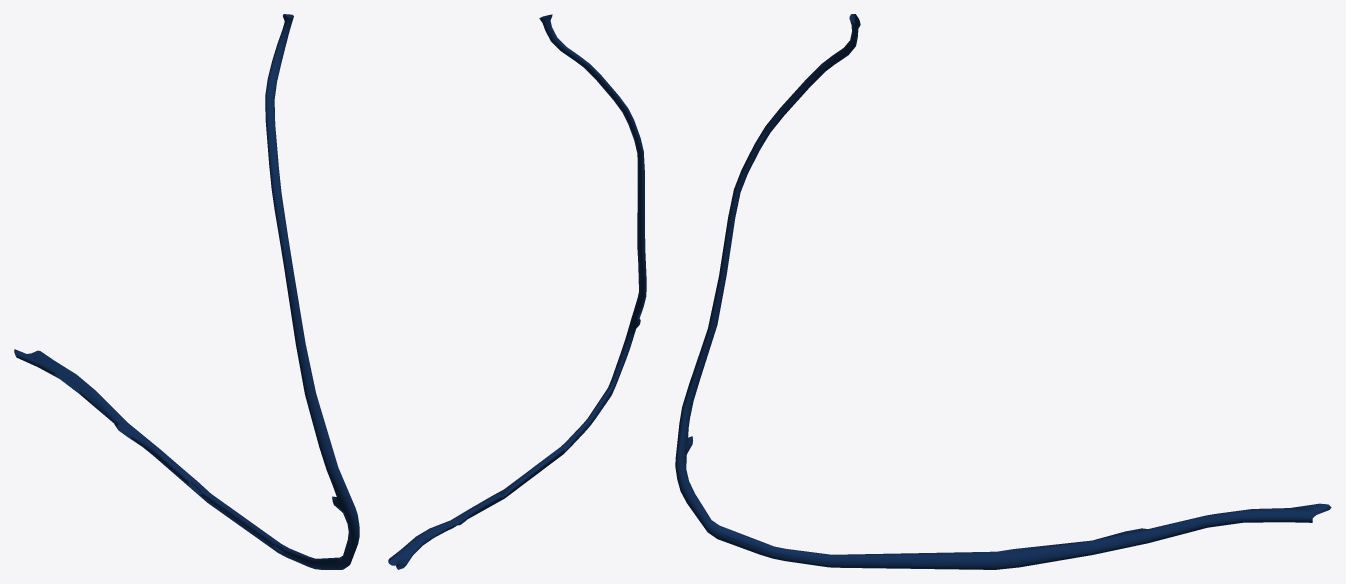
The model's file is R vena thoracica interna.fbx.
The picture shows the model from 3 angles, left to right: view 1: azimuth 30°, elevation 25°; view 2: azimuth 150°, elevation 25°; view 3: azimuth 270°, elevation 25°; orthographic projection. The views are drawn at different scales.
Parts seen in each view (by area): view 1: R vena thoracica interna, R vena thoracica interna low; view 2: R vena thoracica interna, R vena thoracica interna low; view 3: R vena thoracica interna, R vena thoracica interna low.
Boxes of the visible parts, box(x1,y1,x2,y2) form: R vena thoracica interna: box(14, 14, 359, 569); R vena thoracica interna low: box(16, 14, 358, 568); R vena thoracica interna: box(388, 15, 646, 569); R vena thoracica interna low: box(388, 14, 646, 569); R vena thoracica interna: box(675, 14, 1331, 569); R vena thoracica interna low: box(677, 14, 1329, 569).
Size of the model in its own units: 3.43 by 25.93 by 27.56.
